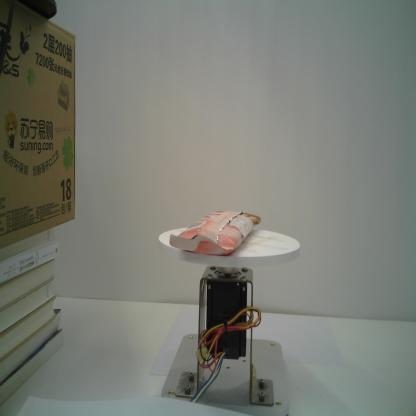Dessert: (168, 207, 262, 256)
